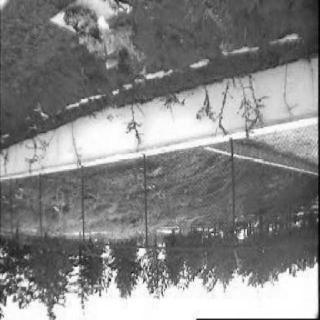Fire: (67, 9, 147, 77)
